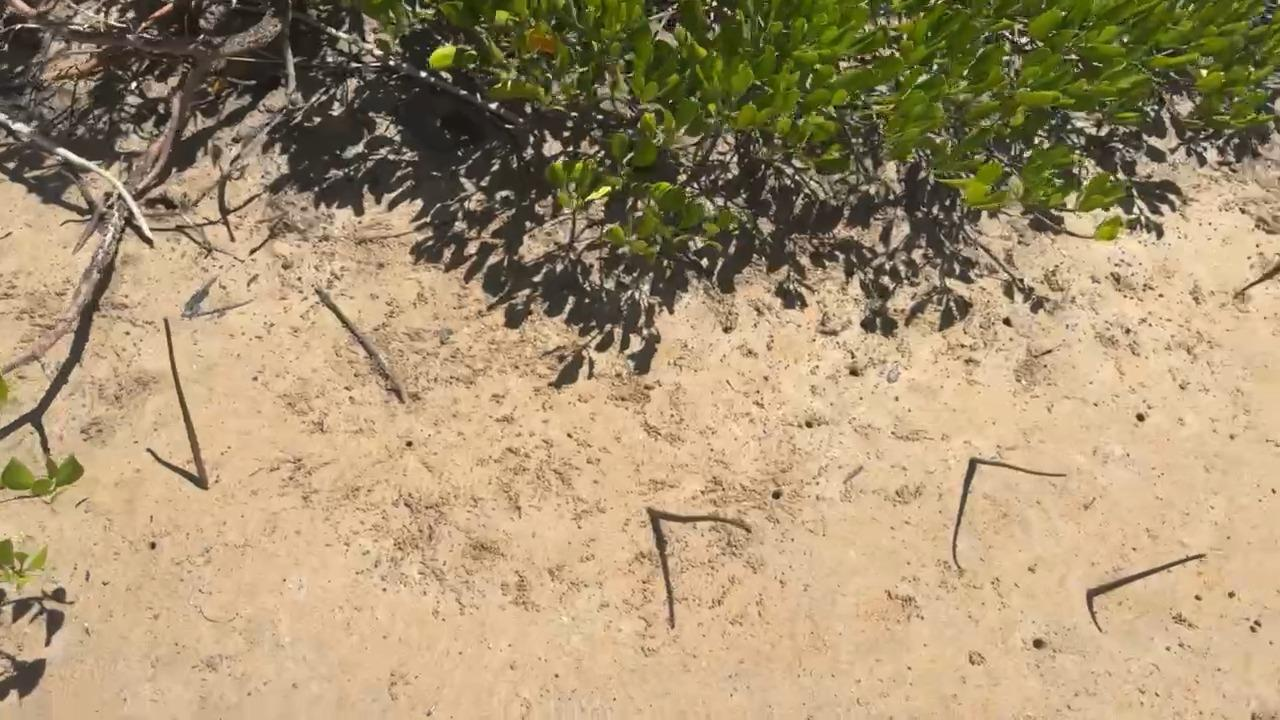Tree: (162, 317, 209, 489), (1087, 553, 1207, 598), (646, 506, 753, 535), (970, 456, 1067, 478)
